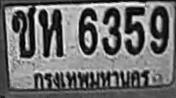3: (101, 7, 120, 54)
5: (124, 6, 144, 54)
6: (78, 7, 96, 54)
9: (149, 5, 168, 53)
A10: (11, 6, 35, 56)
A41: (38, 8, 62, 56)
BKK: (29, 66, 156, 92)
